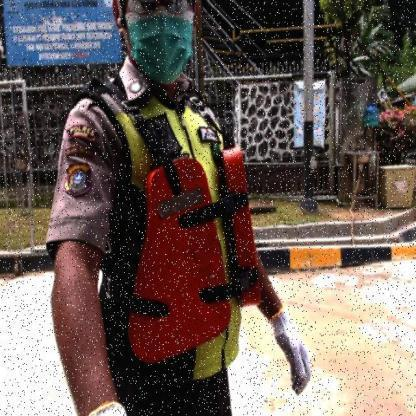gloves: (264, 303, 324, 399)
goggles: (120, 0, 196, 14)
mask: (127, 15, 192, 85)
vest: (125, 146, 266, 364)
